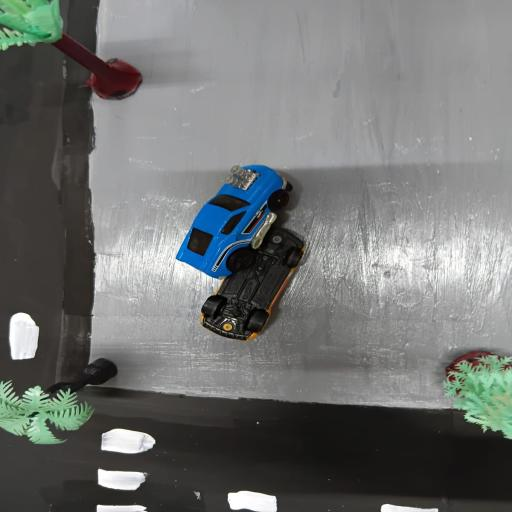car crash: (172, 162, 319, 342)
